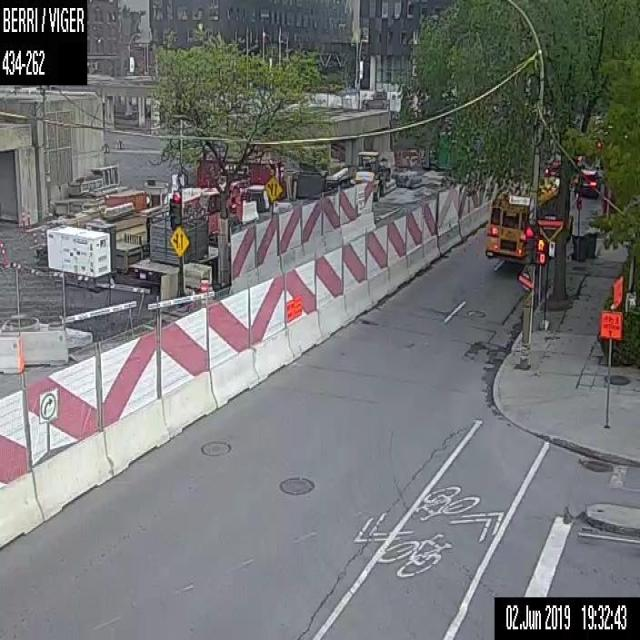bus: (486, 176, 560, 262)
construction: (598, 308, 622, 428), (612, 273, 623, 309), (200, 276, 210, 306)
vehicle: (573, 166, 600, 198)
